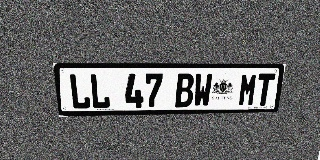4: (124, 74, 144, 108)
7: (144, 74, 163, 108)
B: (175, 73, 194, 107)
L: (68, 74, 91, 109), (89, 74, 110, 109)
M: (238, 73, 258, 106)
T: (254, 73, 276, 106)
W: (193, 73, 213, 107)
